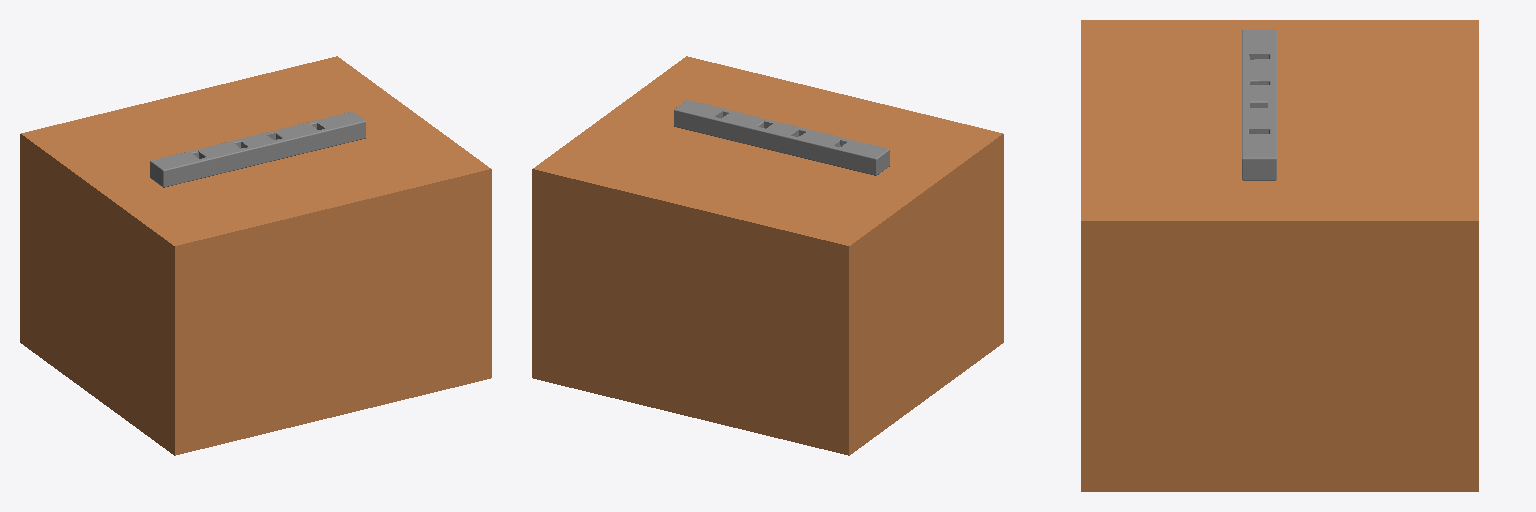
URDF robot description (table_beam_2x_2_scene_0098):
<?xml version="1.0"?>
<robot name="table_beam_2x_2_scene_0098">
  <link name="box">
    <visual>
      <material name="wood"><color rgba="0.82 0.56 0.35 1.0"/></material>
      <origin xyz="0 0 0"/>
      <geometry><box size="0.475 0.4 0.3"/></geometry>
    </visual>
    <collision>
      <origin xyz="0 0 0"/>
      <geometry><box size="0.475 0.4 0.3"/></geometry>
    </collision>
    <inertial>
      <mass value="500"/>
      <friction value="1.0"/>
      <inertia ixx="1000.0" ixy="0.0" ixz="0.0" iyy="1000.0" iyz="0.0" izz="1000.0"/>
    </inertial>
  </link>
  <link name="part_6_hull_0">
    <visual>
      <origin xyz="0 0 0" rpy="0 0 0"/>
      <geometry><mesh filename="../../6/coacd/decomp_0.obj" scale="1 1 1"/></geometry>
      <material name="placed_0"><color rgba="0.6 0.6 0.6 1.0"/></material>
    </visual>
    <collision>
      <origin xyz="0 0 0" rpy="0 0 0"/>
      <geometry><mesh filename="../../6/coacd/decomp_0.obj" scale="1 1 1"/></geometry>
    </collision>
  </link>
  <joint name="part_6_hull_0_joint" type="fixed">
    <parent link="box"/>
    <child link="part_6_hull_0"/>
    <origin xyz="-0.008586 -0.020702 0.162666" rpy="0.000000 0.000000 0.000000"/>
  </joint>
  <link name="part_6_hull_1">
    <visual>
      <origin xyz="0 0 0" rpy="0 0 0"/>
      <geometry><mesh filename="../../6/coacd/decomp_1.obj" scale="1 1 1"/></geometry>
      <material name="placed_1"><color rgba="0.6 0.6 0.6 1.0"/></material>
    </visual>
    <collision>
      <origin xyz="0 0 0" rpy="0 0 0"/>
      <geometry><mesh filename="../../6/coacd/decomp_1.obj" scale="1 1 1"/></geometry>
    </collision>
  </link>
  <joint name="part_6_hull_1_joint" type="fixed">
    <parent link="box"/>
    <child link="part_6_hull_1"/>
    <origin xyz="-0.008586 -0.020702 0.162666" rpy="0.000000 0.000000 0.000000"/>
  </joint>
  <link name="part_6_hull_2">
    <visual>
      <origin xyz="0 0 0" rpy="0 0 0"/>
      <geometry><mesh filename="../../6/coacd/decomp_10.obj" scale="1 1 1"/></geometry>
      <material name="placed_2"><color rgba="0.6 0.6 0.6 1.0"/></material>
    </visual>
    <collision>
      <origin xyz="0 0 0" rpy="0 0 0"/>
      <geometry><mesh filename="../../6/coacd/decomp_10.obj" scale="1 1 1"/></geometry>
    </collision>
  </link>
  <joint name="part_6_hull_2_joint" type="fixed">
    <parent link="box"/>
    <child link="part_6_hull_2"/>
    <origin xyz="-0.008586 -0.020702 0.162666" rpy="0.000000 0.000000 0.000000"/>
  </joint>
  <link name="part_6_hull_3">
    <visual>
      <origin xyz="0 0 0" rpy="0 0 0"/>
      <geometry><mesh filename="../../6/coacd/decomp_11.obj" scale="1 1 1"/></geometry>
      <material name="placed_3"><color rgba="0.6 0.6 0.6 1.0"/></material>
    </visual>
    <collision>
      <origin xyz="0 0 0" rpy="0 0 0"/>
      <geometry><mesh filename="../../6/coacd/decomp_11.obj" scale="1 1 1"/></geometry>
    </collision>
  </link>
  <joint name="part_6_hull_3_joint" type="fixed">
    <parent link="box"/>
    <child link="part_6_hull_3"/>
    <origin xyz="-0.008586 -0.020702 0.162666" rpy="0.000000 0.000000 0.000000"/>
  </joint>
  <link name="part_6_hull_4">
    <visual>
      <origin xyz="0 0 0" rpy="0 0 0"/>
      <geometry><mesh filename="../../6/coacd/decomp_12.obj" scale="1 1 1"/></geometry>
      <material name="placed_4"><color rgba="0.6 0.6 0.6 1.0"/></material>
    </visual>
    <collision>
      <origin xyz="0 0 0" rpy="0 0 0"/>
      <geometry><mesh filename="../../6/coacd/decomp_12.obj" scale="1 1 1"/></geometry>
    </collision>
  </link>
  <joint name="part_6_hull_4_joint" type="fixed">
    <parent link="box"/>
    <child link="part_6_hull_4"/>
    <origin xyz="-0.008586 -0.020702 0.162666" rpy="0.000000 0.000000 0.000000"/>
  </joint>
  <link name="part_6_hull_5">
    <visual>
      <origin xyz="0 0 0" rpy="0 0 0"/>
      <geometry><mesh filename="../../6/coacd/decomp_13.obj" scale="1 1 1"/></geometry>
      <material name="placed_5"><color rgba="0.6 0.6 0.6 1.0"/></material>
    </visual>
    <collision>
      <origin xyz="0 0 0" rpy="0 0 0"/>
      <geometry><mesh filename="../../6/coacd/decomp_13.obj" scale="1 1 1"/></geometry>
    </collision>
  </link>
  <joint name="part_6_hull_5_joint" type="fixed">
    <parent link="box"/>
    <child link="part_6_hull_5"/>
    <origin xyz="-0.008586 -0.020702 0.162666" rpy="0.000000 0.000000 0.000000"/>
  </joint>
  <link name="part_6_hull_6">
    <visual>
      <origin xyz="0 0 0" rpy="0 0 0"/>
      <geometry><mesh filename="../../6/coacd/decomp_2.obj" scale="1 1 1"/></geometry>
      <material name="placed_6"><color rgba="0.6 0.6 0.6 1.0"/></material>
    </visual>
    <collision>
      <origin xyz="0 0 0" rpy="0 0 0"/>
      <geometry><mesh filename="../../6/coacd/decomp_2.obj" scale="1 1 1"/></geometry>
    </collision>
  </link>
  <joint name="part_6_hull_6_joint" type="fixed">
    <parent link="box"/>
    <child link="part_6_hull_6"/>
    <origin xyz="-0.008586 -0.020702 0.162666" rpy="0.000000 0.000000 0.000000"/>
  </joint>
  <link name="part_6_hull_7">
    <visual>
      <origin xyz="0 0 0" rpy="0 0 0"/>
      <geometry><mesh filename="../../6/coacd/decomp_3.obj" scale="1 1 1"/></geometry>
      <material name="placed_7"><color rgba="0.6 0.6 0.6 1.0"/></material>
    </visual>
    <collision>
      <origin xyz="0 0 0" rpy="0 0 0"/>
      <geometry><mesh filename="../../6/coacd/decomp_3.obj" scale="1 1 1"/></geometry>
    </collision>
  </link>
  <joint name="part_6_hull_7_joint" type="fixed">
    <parent link="box"/>
    <child link="part_6_hull_7"/>
    <origin xyz="-0.008586 -0.020702 0.162666" rpy="0.000000 0.000000 0.000000"/>
  </joint>
  <link name="part_6_hull_8">
    <visual>
      <origin xyz="0 0 0" rpy="0 0 0"/>
      <geometry><mesh filename="../../6/coacd/decomp_4.obj" scale="1 1 1"/></geometry>
      <material name="placed_8"><color rgba="0.6 0.6 0.6 1.0"/></material>
    </visual>
    <collision>
      <origin xyz="0 0 0" rpy="0 0 0"/>
      <geometry><mesh filename="../../6/coacd/decomp_4.obj" scale="1 1 1"/></geometry>
    </collision>
  </link>
  <joint name="part_6_hull_8_joint" type="fixed">
    <parent link="box"/>
    <child link="part_6_hull_8"/>
    <origin xyz="-0.008586 -0.020702 0.162666" rpy="0.000000 0.000000 0.000000"/>
  </joint>
  <link name="part_6_hull_9">
    <visual>
      <origin xyz="0 0 0" rpy="0 0 0"/>
      <geometry><mesh filename="../../6/coacd/decomp_5.obj" scale="1 1 1"/></geometry>
      <material name="placed_9"><color rgba="0.6 0.6 0.6 1.0"/></material>
    </visual>
    <collision>
      <origin xyz="0 0 0" rpy="0 0 0"/>
      <geometry><mesh filename="../../6/coacd/decomp_5.obj" scale="1 1 1"/></geometry>
    </collision>
  </link>
  <joint name="part_6_hull_9_joint" type="fixed">
    <parent link="box"/>
    <child link="part_6_hull_9"/>
    <origin xyz="-0.008586 -0.020702 0.162666" rpy="0.000000 0.000000 0.000000"/>
  </joint>
  <link name="part_6_hull_10">
    <visual>
      <origin xyz="0 0 0" rpy="0 0 0"/>
      <geometry><mesh filename="../../6/coacd/decomp_6.obj" scale="1 1 1"/></geometry>
      <material name="placed_10"><color rgba="0.6 0.6 0.6 1.0"/></material>
    </visual>
    <collision>
      <origin xyz="0 0 0" rpy="0 0 0"/>
      <geometry><mesh filename="../../6/coacd/decomp_6.obj" scale="1 1 1"/></geometry>
    </collision>
  </link>
  <joint name="part_6_hull_10_joint" type="fixed">
    <parent link="box"/>
    <child link="part_6_hull_10"/>
    <origin xyz="-0.008586 -0.020702 0.162666" rpy="0.000000 0.000000 0.000000"/>
  </joint>
  <link name="part_6_hull_11">
    <visual>
      <origin xyz="0 0 0" rpy="0 0 0"/>
      <geometry><mesh filename="../../6/coacd/decomp_7.obj" scale="1 1 1"/></geometry>
      <material name="placed_11"><color rgba="0.6 0.6 0.6 1.0"/></material>
    </visual>
    <collision>
      <origin xyz="0 0 0" rpy="0 0 0"/>
      <geometry><mesh filename="../../6/coacd/decomp_7.obj" scale="1 1 1"/></geometry>
    </collision>
  </link>
  <joint name="part_6_hull_11_joint" type="fixed">
    <parent link="box"/>
    <child link="part_6_hull_11"/>
    <origin xyz="-0.008586 -0.020702 0.162666" rpy="0.000000 0.000000 0.000000"/>
  </joint>
  <link name="part_6_hull_12">
    <visual>
      <origin xyz="0 0 0" rpy="0 0 0"/>
      <geometry><mesh filename="../../6/coacd/decomp_8.obj" scale="1 1 1"/></geometry>
      <material name="placed_12"><color rgba="0.6 0.6 0.6 1.0"/></material>
    </visual>
    <collision>
      <origin xyz="0 0 0" rpy="0 0 0"/>
      <geometry><mesh filename="../../6/coacd/decomp_8.obj" scale="1 1 1"/></geometry>
    </collision>
  </link>
  <joint name="part_6_hull_12_joint" type="fixed">
    <parent link="box"/>
    <child link="part_6_hull_12"/>
    <origin xyz="-0.008586 -0.020702 0.162666" rpy="0.000000 0.000000 0.000000"/>
  </joint>
  <link name="part_6_hull_13">
    <visual>
      <origin xyz="0 0 0" rpy="0 0 0"/>
      <geometry><mesh filename="../../6/coacd/decomp_9.obj" scale="1 1 1"/></geometry>
      <material name="placed_13"><color rgba="0.6 0.6 0.6 1.0"/></material>
    </visual>
    <collision>
      <origin xyz="0 0 0" rpy="0 0 0"/>
      <geometry><mesh filename="../../6/coacd/decomp_9.obj" scale="1 1 1"/></geometry>
    </collision>
  </link>
  <joint name="part_6_hull_13_joint" type="fixed">
    <parent link="box"/>
    <child link="part_6_hull_13"/>
    <origin xyz="-0.008586 -0.020702 0.162666" rpy="0.000000 0.000000 0.000000"/>
  </joint>
</robot>

--- Facts derived from the render (not from the file) ---
3 views of the same robot in one strip: view 1: azimuth 30°, elevation 25°; view 2: azimuth 150°, elevation 25°; view 3: azimuth 270°, elevation 25° (orthographic).
Robot: table_beam_2x_2_scene_0098 — 15 links, 14 joints (14 fixed); root link box; default pose: every joint at zero.
Links seen in each view (by area): view 1: box, part_6_hull_1, part_6_hull_0, part_6_hull_9, part_6_hull_5, part_6_hull_3; view 2: box, part_6_hull_1, part_6_hull_0, part_6_hull_2, part_6_hull_5, part_6_hull_12; view 3: box, part_6_hull_0, part_6_hull_1, part_6_hull_5, part_6_hull_2.
Boxes of the visible links, box(x1,y1,x2,y2) form: box: box(20, 56, 491, 455); part_6_hull_1: box(150, 152, 201, 187); part_6_hull_0: box(316, 112, 365, 147); part_6_hull_9: box(200, 147, 251, 177); part_6_hull_5: box(282, 122, 320, 155); part_6_hull_3: box(253, 136, 293, 164); box: box(532, 56, 1003, 455); part_6_hull_1: box(838, 140, 889, 175); part_6_hull_0: box(674, 100, 724, 135); part_6_hull_2: box(795, 132, 840, 164); part_6_hull_5: box(719, 111, 758, 143); part_6_hull_12: box(746, 125, 786, 153); box: box(1081, 20, 1478, 491); part_6_hull_0: box(1242, 134, 1276, 180); part_6_hull_1: box(1242, 30, 1276, 59); part_6_hull_5: box(1242, 112, 1276, 133); part_6_hull_2: box(1250, 59, 1276, 84).
Bounding box of the posed robot: 0.475 × 0.4 × 0.3254 m (x, y, z).
Meshes: 14 distinct files referenced, 14 mesh visuals loaded (14 OBJ).
